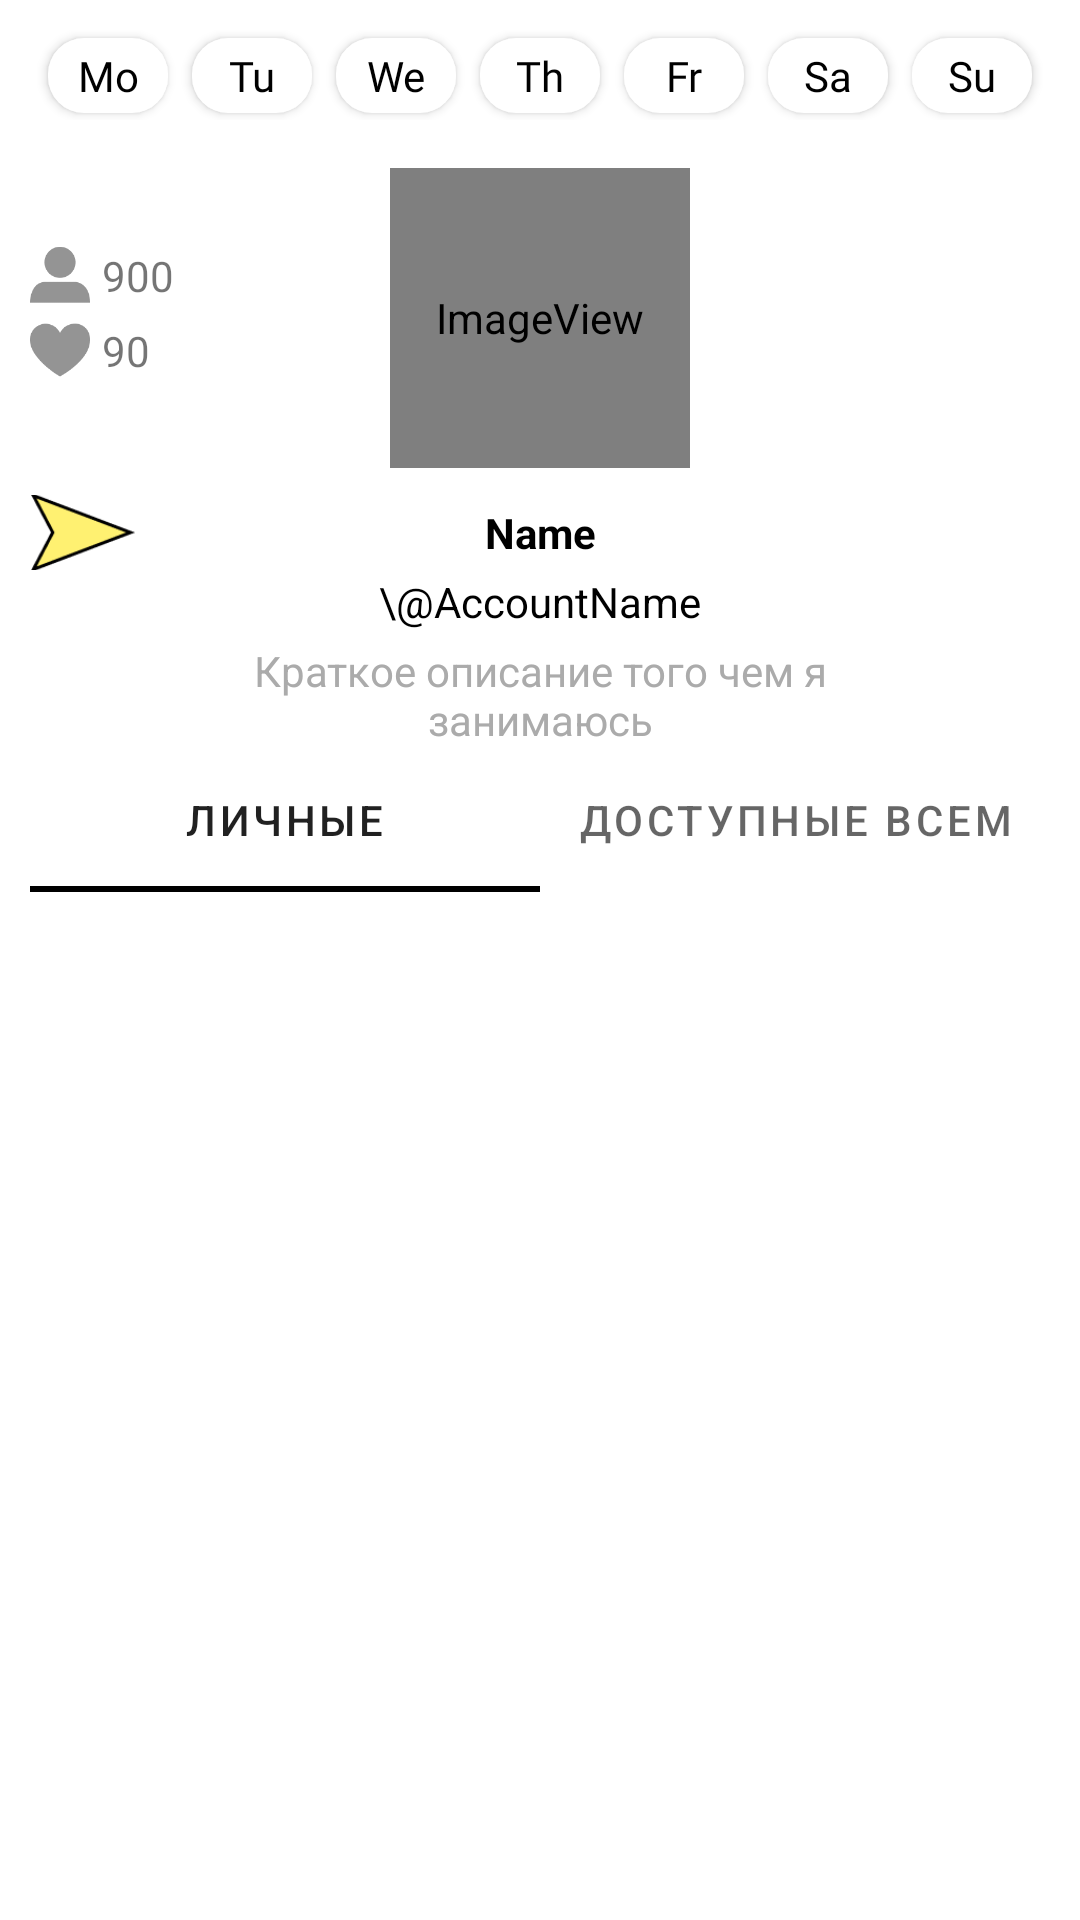

Icons on this 1080 x 1920 Android screen, each with its box as rect(x1, y1, x2, y2):
send message: rect(31, 495, 135, 570)
